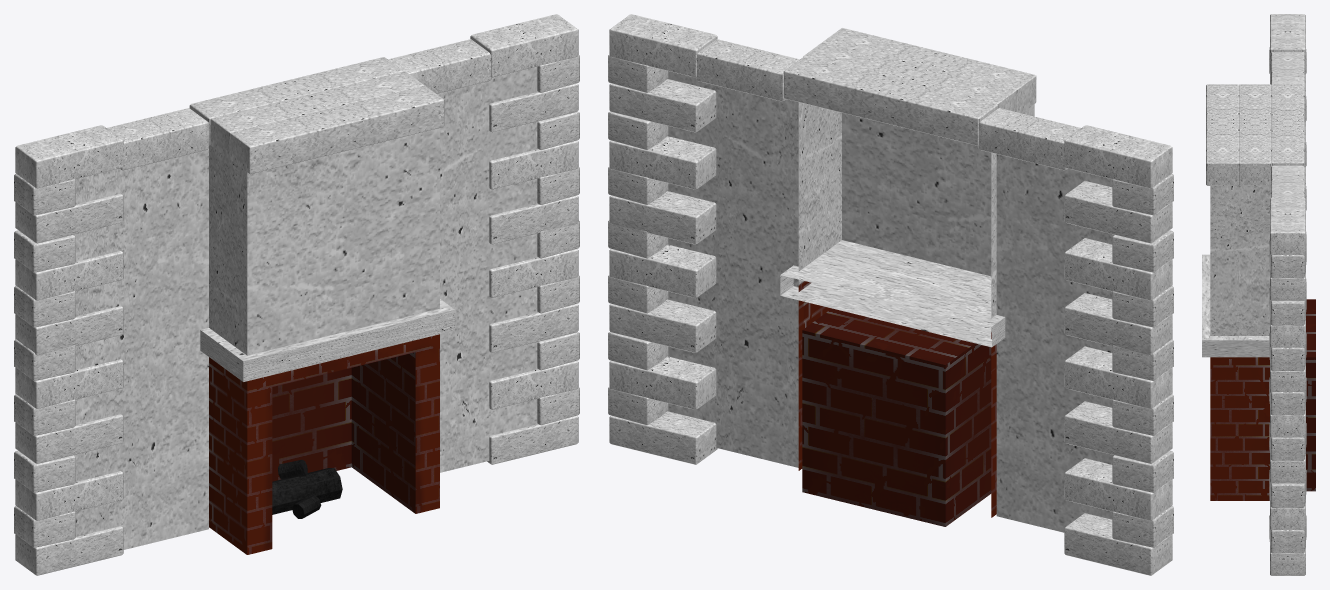
The model's file is castlestove.fbx.
The picture shows the model from 3 angles, left to right: view 1: azimuth 30°, elevation 25°; view 2: azimuth 150°, elevation 25°; view 3: azimuth 270°, elevation 25°; orthographic projection. The views are drawn at different scales.
Parts seen in each view (by area): view 1: castlestove, wood; view 2: castlestove; view 3: castlestove.
Boxes of the visible parts, x1,y1,x2,y2 form: castlestove: (14, 14, 579, 575); wood: (272, 459, 342, 518); castlestove: (608, 14, 1173, 575); castlestove: (1202, 14, 1315, 575).
Size of the model in its own units: 561 by 407 by 122.
1 material, 1 textured.
